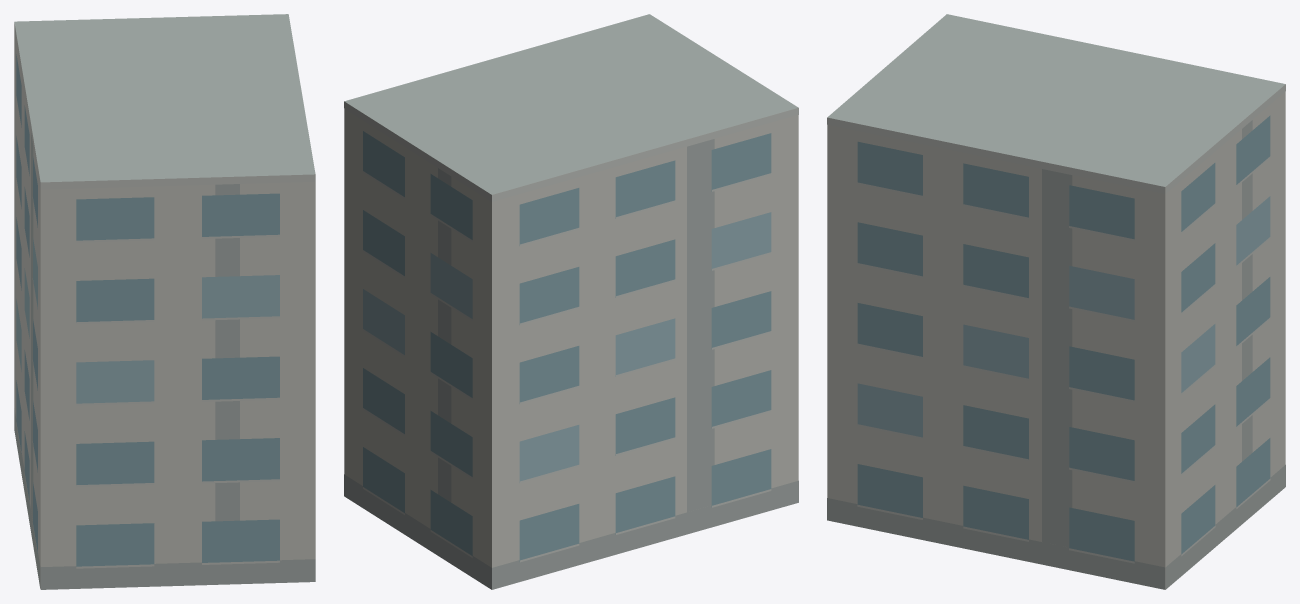
Rendered from survey-upis-32530456.glb.
3 renders of one model, left to right at view 1: azimuth 30°, elevation 25°; view 2: azimuth 150°, elevation 25°; view 3: azimuth 270°, elevation 25°, orthographic. The views are drawn at different scales.
Visible parts, largest first — view 1: survey-upis-32530456.tmp; view 2: survey-upis-32530456.tmp; view 3: survey-upis-32530456.tmp.
Part boxes in pixels (x1,y1,x2,y2): survey-upis-32530456.tmp: (14, 14, 315, 589); survey-upis-32530456.tmp: (344, 14, 798, 589); survey-upis-32530456.tmp: (827, 14, 1285, 589).
Size of the model in its own units: 12.44 by 13.5 by 13.94.
